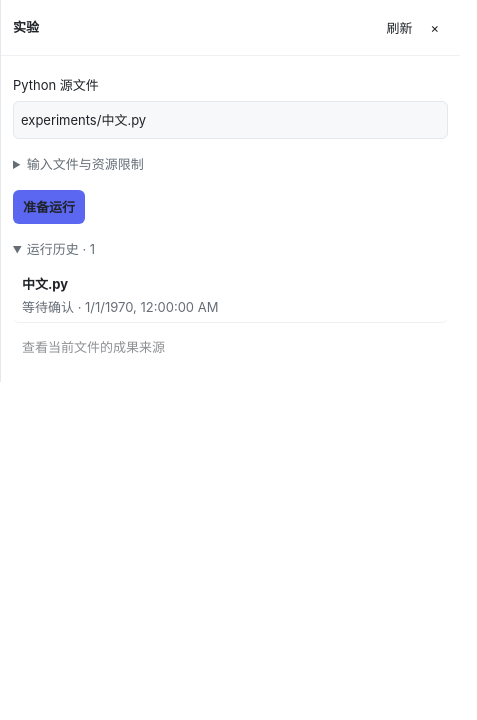
Scenario: experiment user workflow › prepares saved evidence without authorizing execution and reconciles an uncertain prepare with the same operation
This screenshot has width=477, height=720.
Step 1. Click the button "准备运行" → (49, 207), box [13, 190, 85, 224]
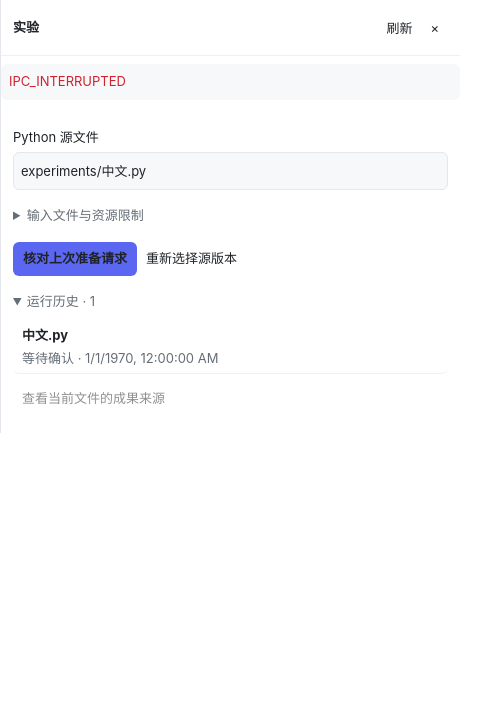
Check: the text "IPC_INTERRUPTED" is shown, box [1, 64, 460, 100]
Step 2. Click the button "核对上次准备请求" → (75, 258), box [13, 242, 137, 276]
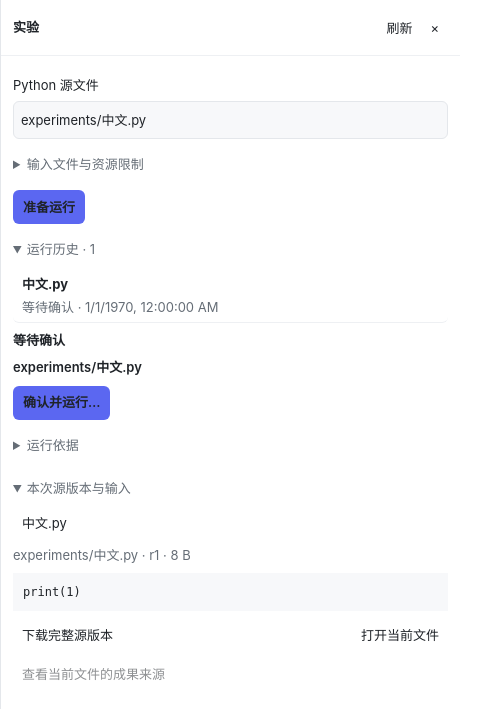
Check: the button "确认并运行…" is shown, box [13, 386, 110, 420]
